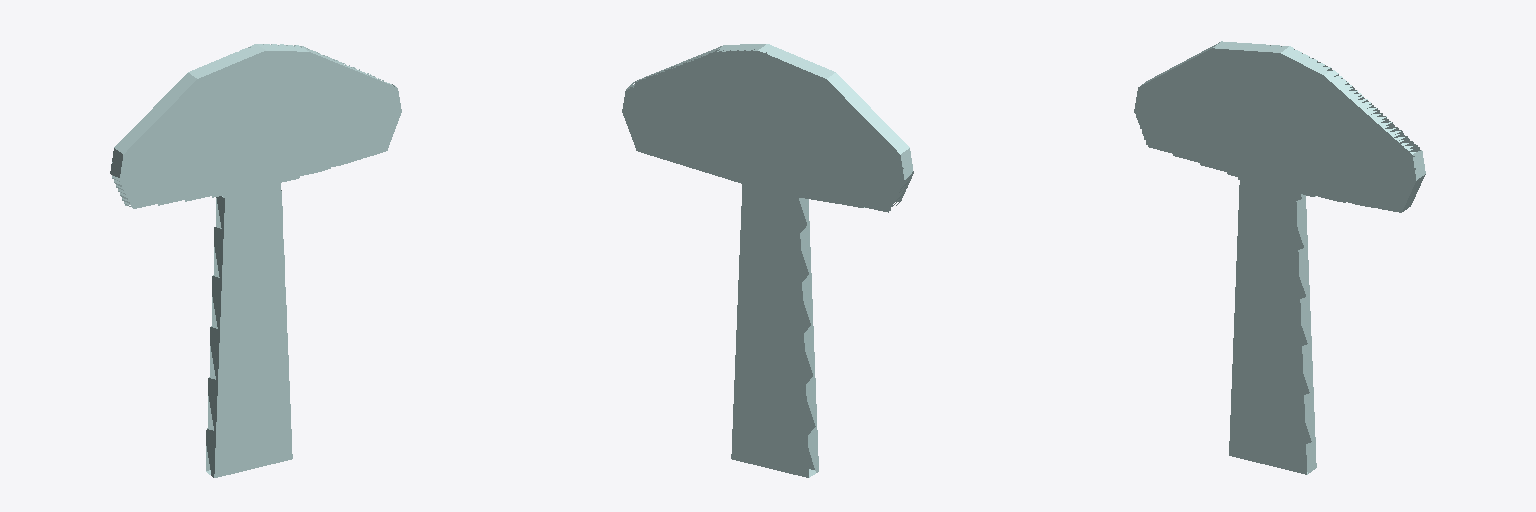
The picture shows the model from 3 angles: view 1: azimuth 30°, elevation 25°; view 2: azimuth 150°, elevation 25°; view 3: azimuth 330°, elevation 25°; orthographic projection.
Visible parts, largest first — view 1: shroom1; view 2: shroom1; view 3: shroom1.
Boxes of the visible parts, x1,y1,x2,y2 form: shroom1: [110, 44, 401, 477]; shroom1: [622, 44, 913, 477]; shroom1: [1134, 41, 1425, 474].
Bounding box in the file's own units: 12.04 × 16.93 × 0.6958.
Materials: 1 (1 with a texture image).